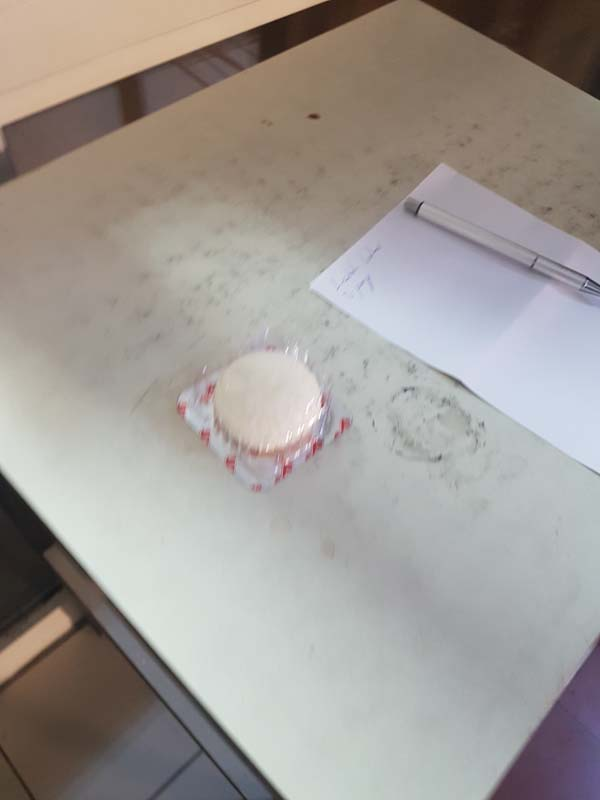etipuf: (177, 347, 360, 477)
